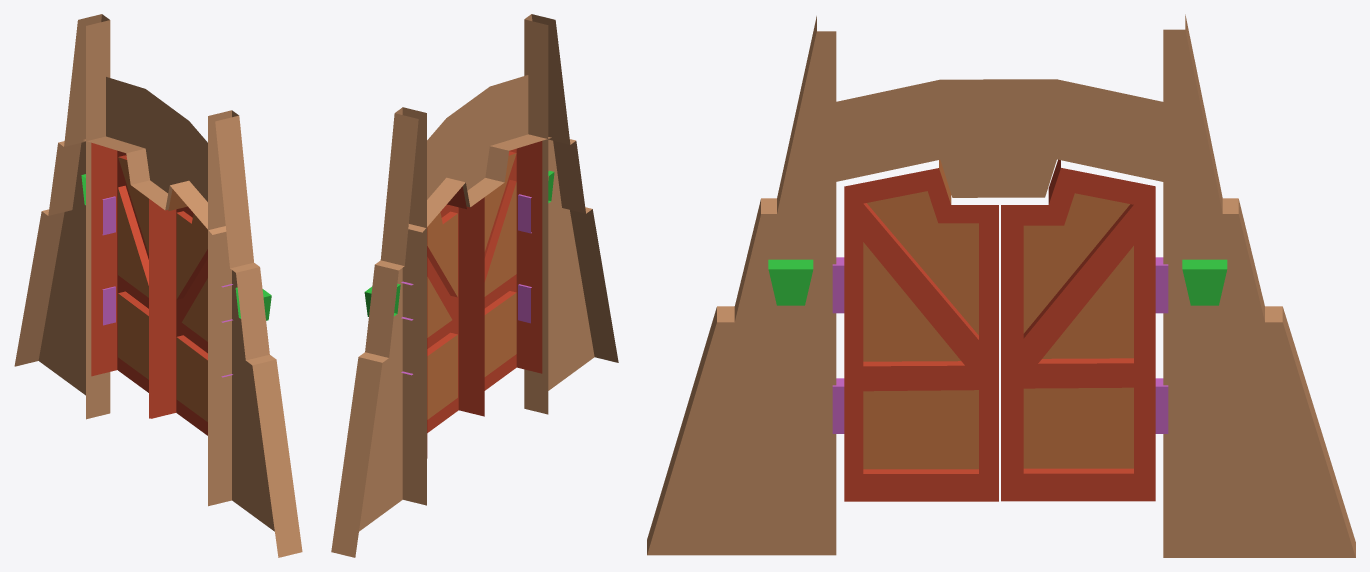
Rendered from jurasicdoor4.fbx.
The picture shows the model from 3 angles, left to right: view 1: azimuth 30°, elevation 25°; view 2: azimuth 150°, elevation 25°; view 3: azimuth 270°, elevation 25°; orthographic projection. The views are drawn at different scales.
Visible parts, largest first — view 1: Cube, Cube.001, Cube.003, Cube.004, Cube.002, Cube.008, Cube.007; view 2: Cube.001, Cube, Cube.004, Cube.003, Cube.002, Cube.005, Cube.006; view 3: Cube.001, Cube, Cube.004, Cube.003, Cube.002, Cube.010, Cube.009.
Boxes of the visible parts, bbox=[...] form: Cube: bbox=[208, 110, 302, 557]; Cube.001: bbox=[14, 14, 110, 419]; Cube.003: bbox=[150, 189, 207, 435]; Cube.004: bbox=[91, 142, 150, 418]; Cube.002: bbox=[83, 77, 226, 234]; Cube.008: bbox=[102, 196, 115, 235]; Cube.007: bbox=[102, 286, 115, 325]; Cube.001: bbox=[331, 107, 426, 557]; Cube: bbox=[524, 14, 618, 414]; Cube.004: bbox=[427, 186, 484, 458]; Cube.003: bbox=[484, 141, 542, 390]; Cube.002: bbox=[408, 75, 551, 232]; Cube.005: bbox=[518, 194, 531, 233]; Cube.006: bbox=[518, 284, 531, 323]; Cube.001: bbox=[1163, 14, 1355, 557]; Cube: bbox=[647, 16, 836, 555]; Cube.004: bbox=[1001, 159, 1155, 501]; Cube.003: bbox=[844, 160, 998, 501]; Cube.002: bbox=[836, 79, 1163, 197]; Cube.010: bbox=[1182, 259, 1227, 305]; Cube.009: bbox=[768, 259, 813, 305].
Size of the model in its own units: 114 by 1107 by 1346.
